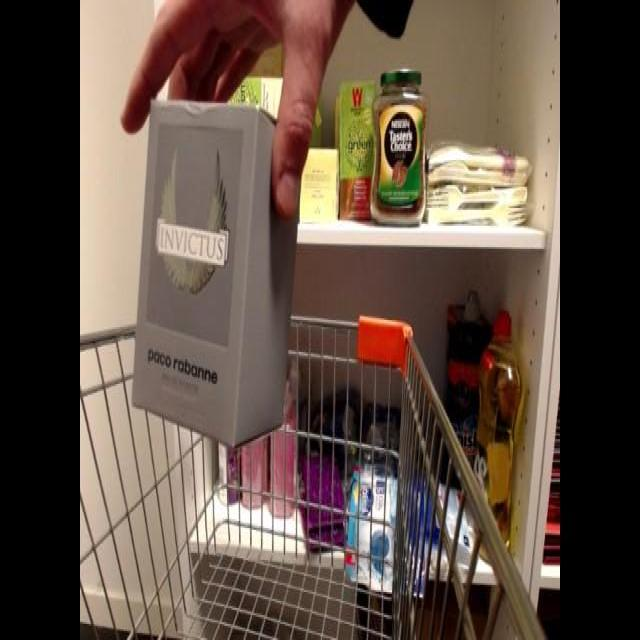Paco Rabanne: (124, 81, 308, 452)
